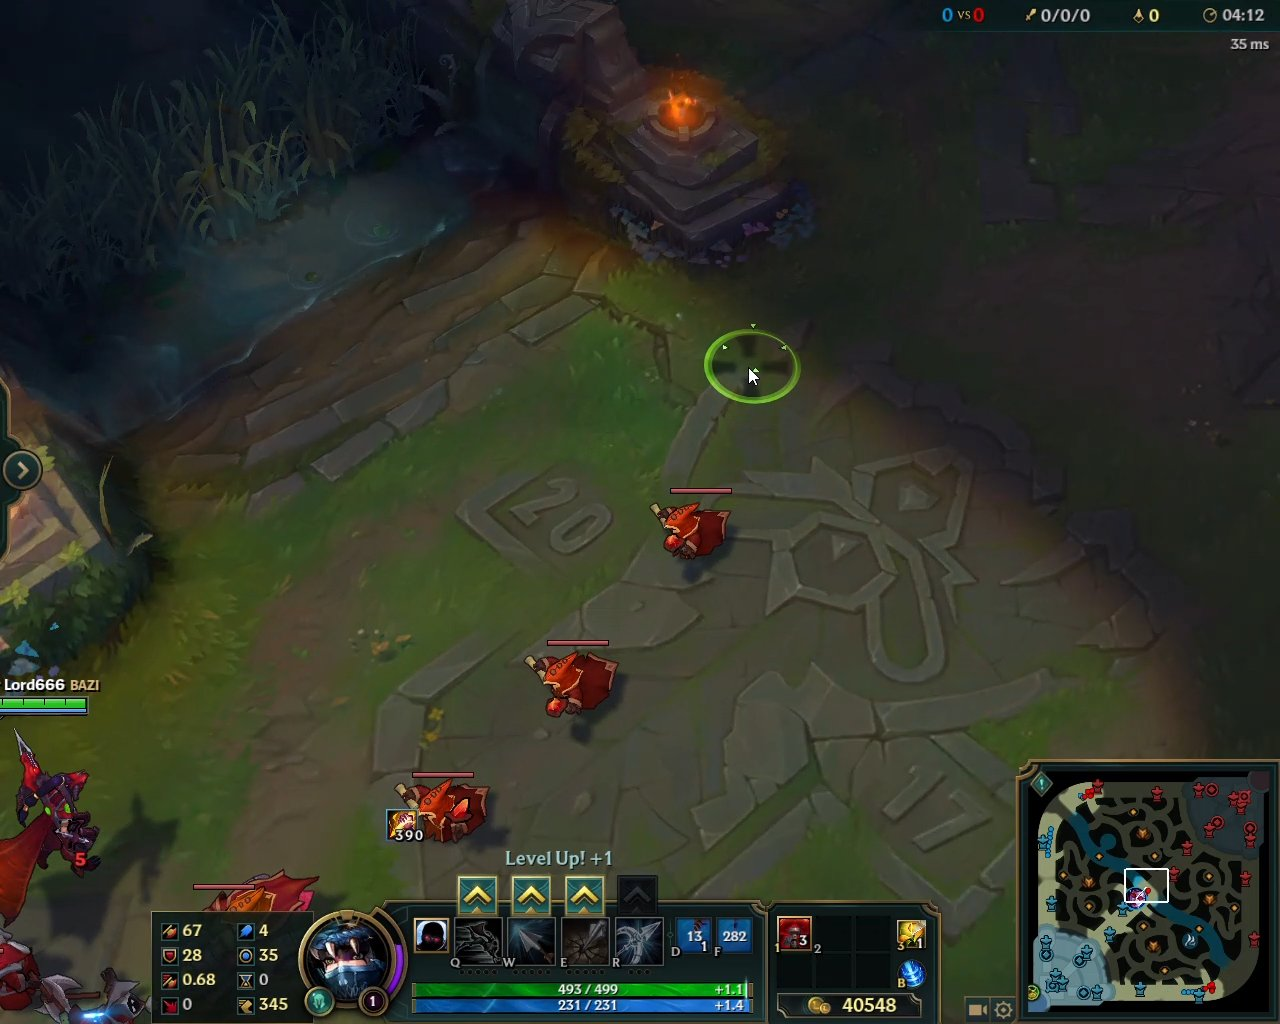EnemyMinion: (521, 638, 621, 726), (647, 487, 735, 573), (399, 769, 496, 842)
